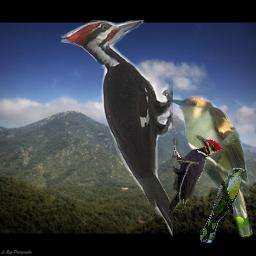Cuckoo: (164, 94, 255, 244), (200, 168, 246, 243)
Woodpecker: (61, 20, 173, 237), (167, 135, 222, 216)
